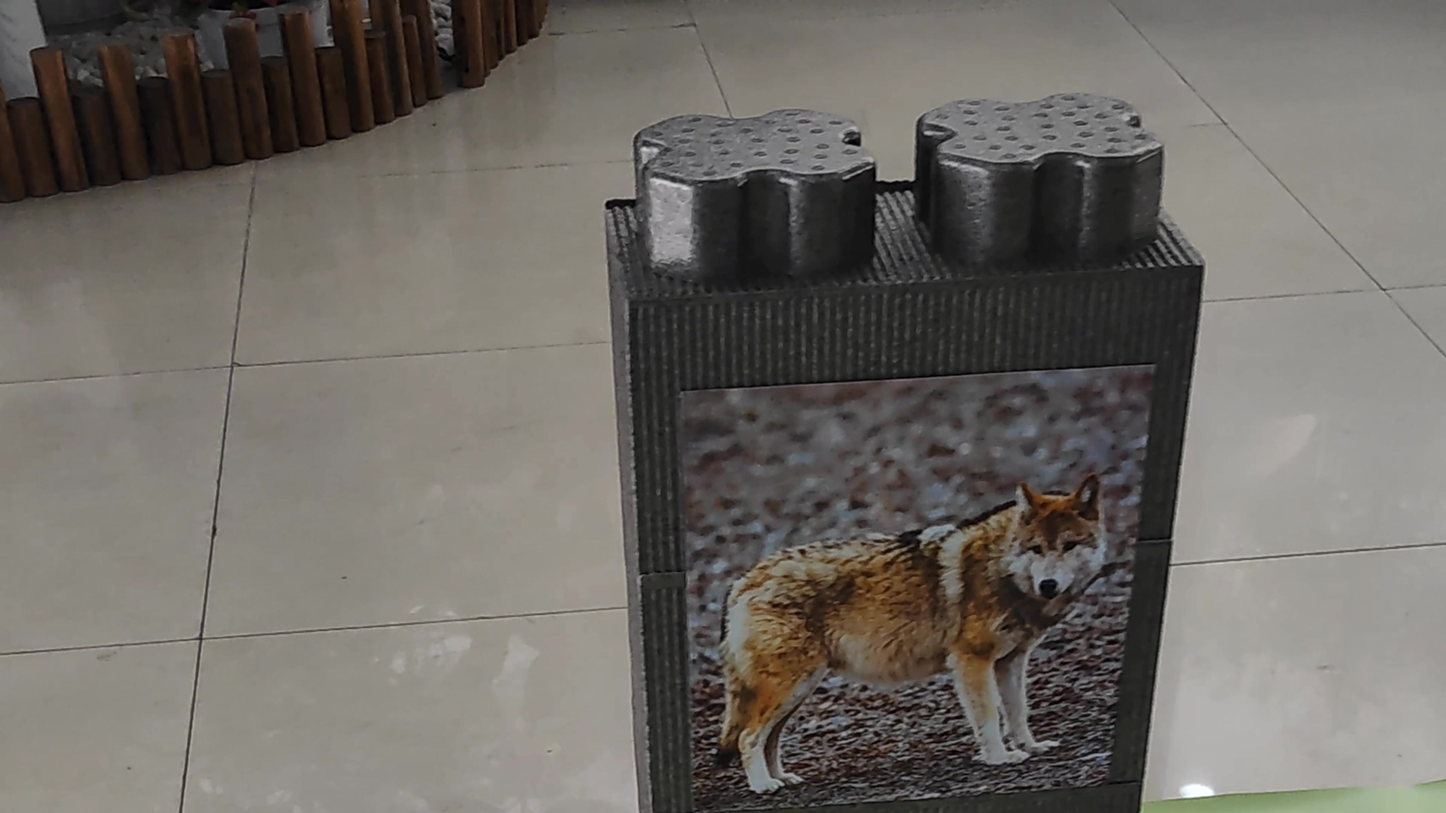wolf: (710, 440, 1113, 787)
